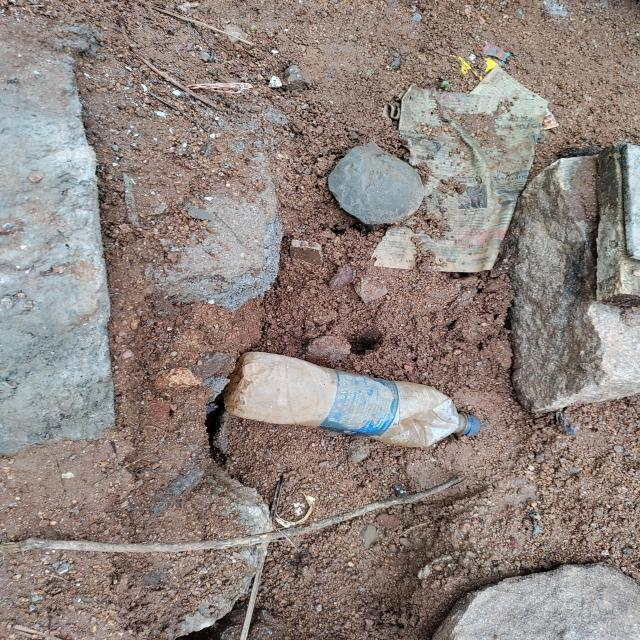paper: (405, 74, 536, 272)
plastic: (234, 344, 486, 464)
